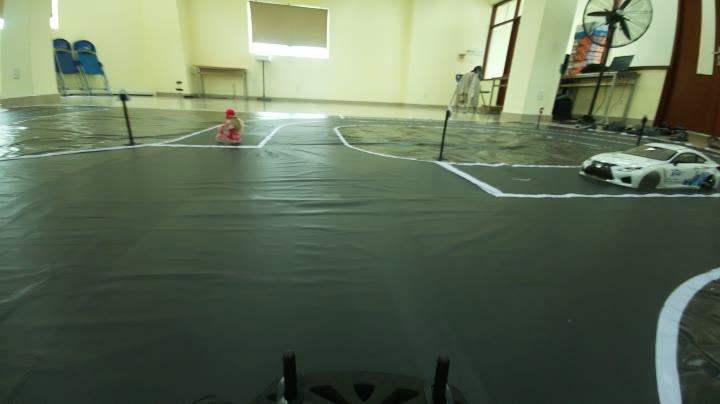car: (572, 128, 708, 197)
